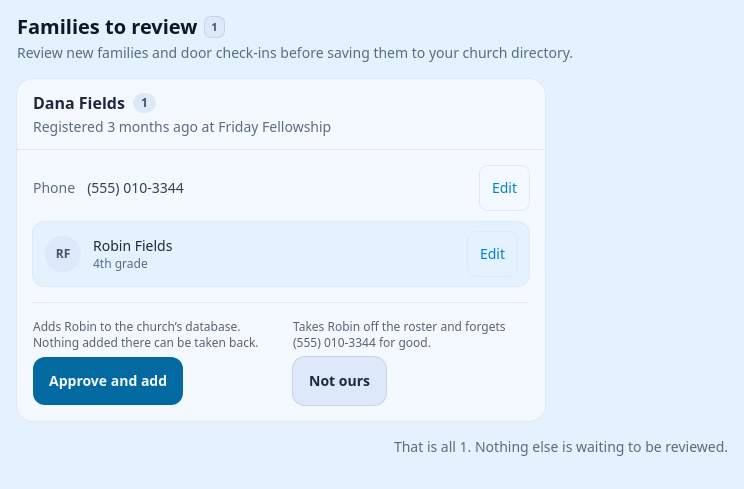
Test case: what the card refuses to claim › says nothing about the adult when the backend named nobody
Click the button "Approve and add". click: (108, 381)
box: 33,357 -> 183,405
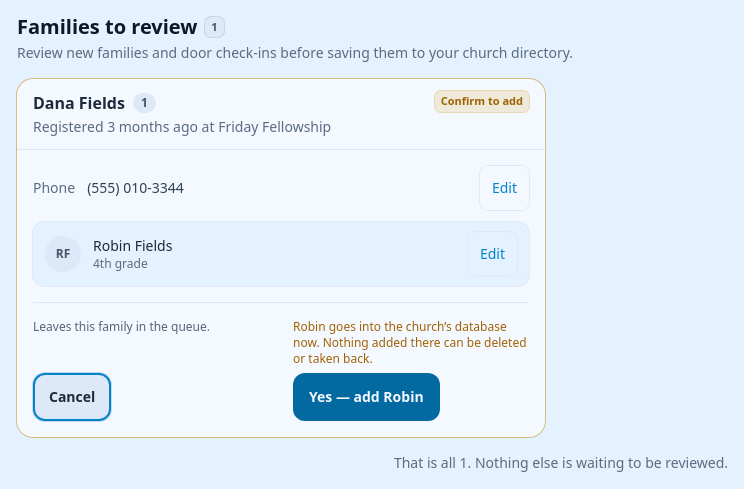
expect the text "Nothing added there can be deleted" is shown: met, box 293,318 -> 526,367
